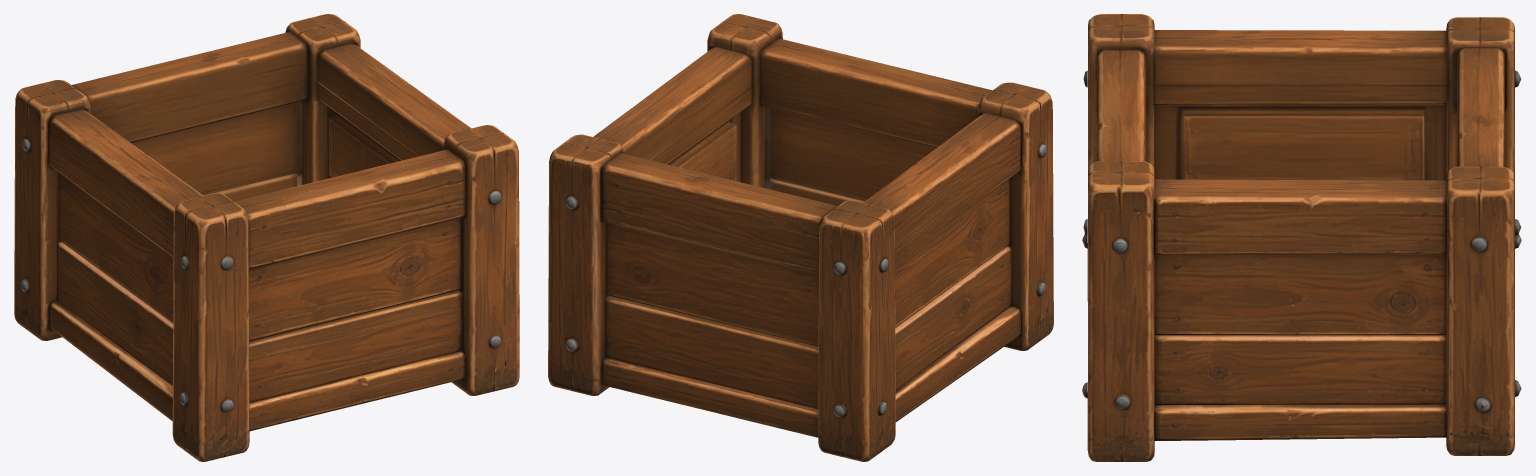
Rendered from P09_planter_box_Runtime_1k.glb.
3 renders of one model, left to right at view 1: azimuth 30°, elevation 25°; view 2: azimuth 150°, elevation 25°; view 3: azimuth 270°, elevation 25°, orthographic. The views are drawn at different scales.
Visible parts, largest first — view 1: tripo_8e195a7a_e9a9_407c_94da_6dba8f4e3a36; view 2: tripo_8e195a7a_e9a9_407c_94da_6dba8f4e3a36; view 3: tripo_8e195a7a_e9a9_407c_94da_6dba8f4e3a36.
Part boxes in pixels (x1,y1,x2,y2): tripo_8e195a7a_e9a9_407c_94da_6dba8f4e3a36: [14, 14, 519, 461]; tripo_8e195a7a_e9a9_407c_94da_6dba8f4e3a36: [548, 14, 1053, 461]; tripo_8e195a7a_e9a9_407c_94da_6dba8f4e3a36: [1082, 14, 1521, 461].
Bounding box in the file's own units: 0.7081 × 0.5 × 0.7172.
1 material, 1 textured.
